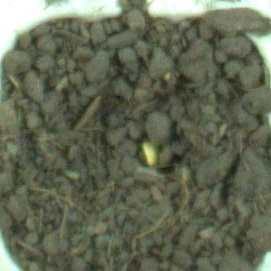pepper seed: (53, 51, 220, 221)
